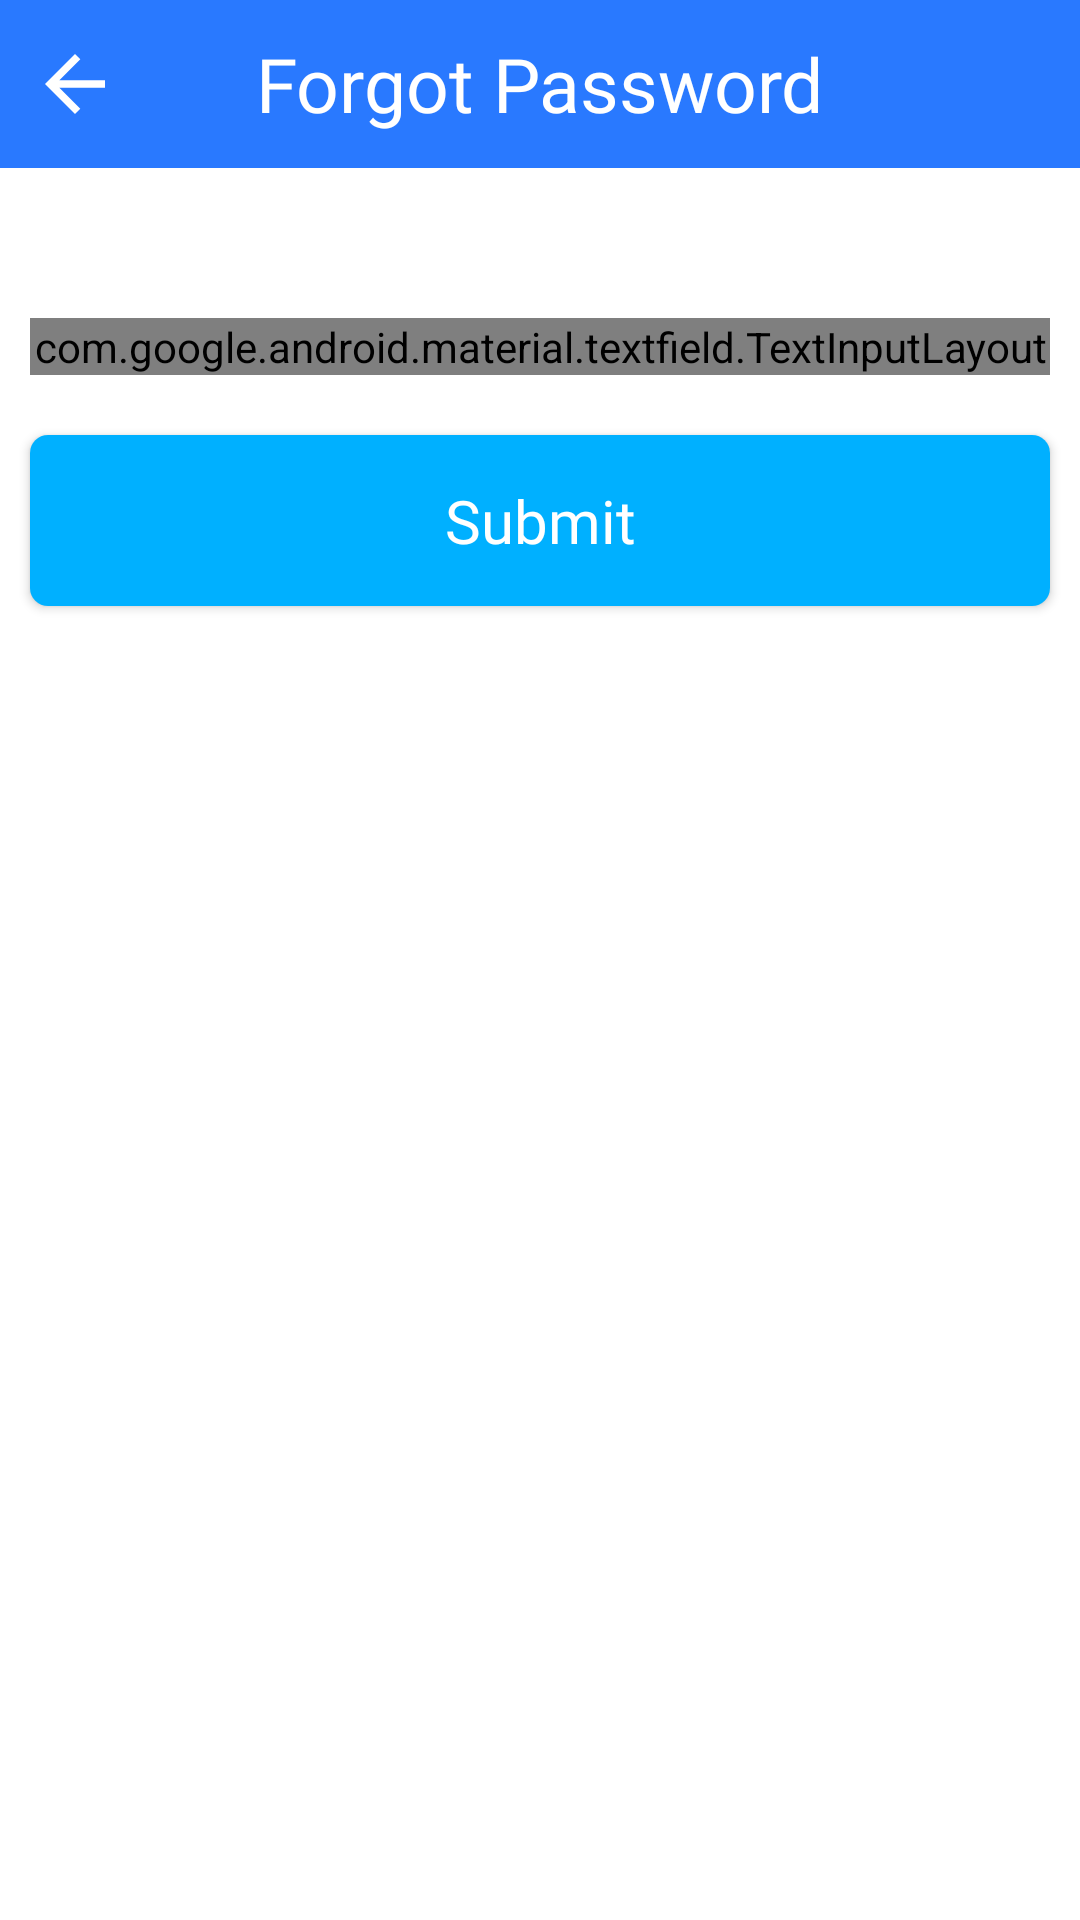

Icon click points for this 1080w x 1920h phone screenshot, format (x,y):
arrow back: (75,84)
